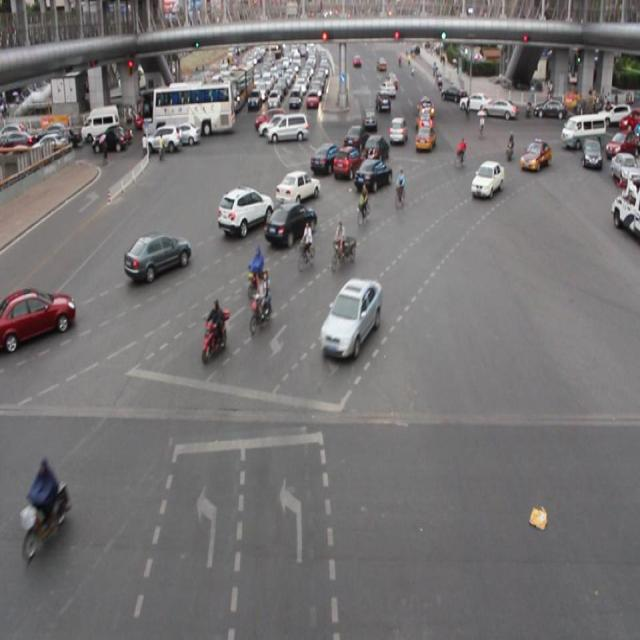car: (319, 277, 383, 351), (0, 285, 72, 347), (123, 232, 193, 278), (216, 184, 273, 232), (264, 202, 315, 244), (275, 169, 321, 204), (469, 159, 504, 199), (354, 156, 390, 192), (517, 137, 551, 175), (310, 140, 342, 173), (360, 133, 389, 164), (332, 146, 359, 176), (342, 124, 367, 150), (387, 114, 407, 146), (413, 124, 436, 150)
